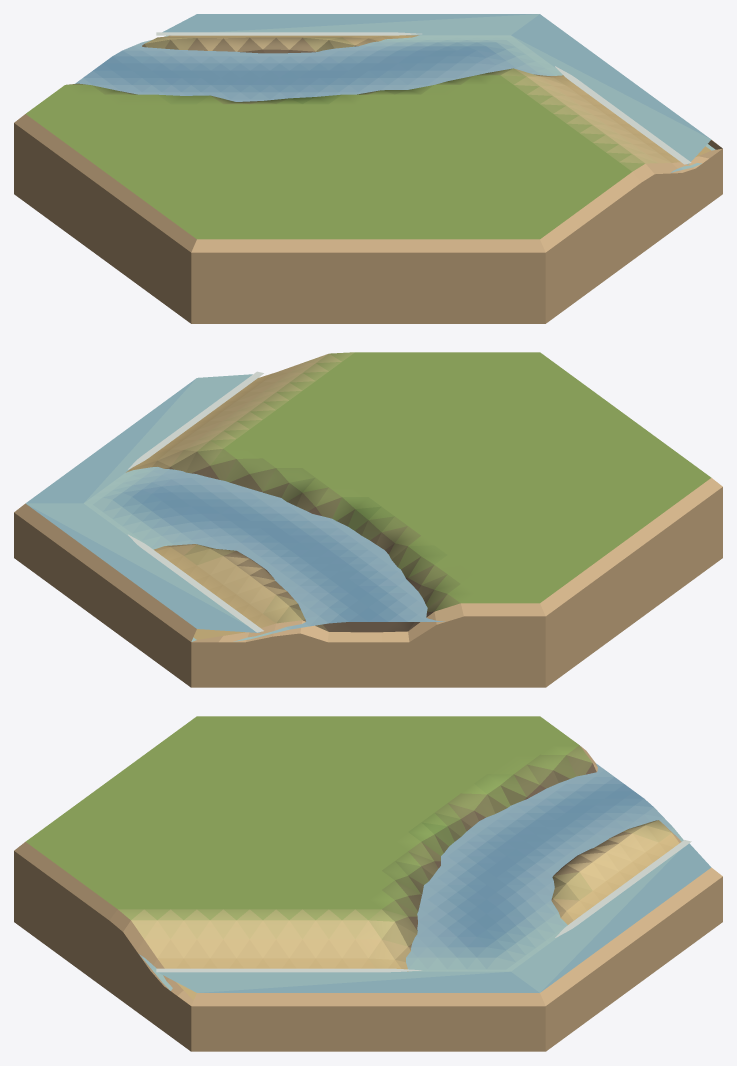
File: estuary_sea2_edge2.fbx
3 views of the same model, one above another, from view 1: azimuth 30°, elevation 25°; view 2: azimuth 150°, elevation 25°; view 3: azimuth 270°, elevation 25° (orthographic).
Parts seen in each view (by area): view 1: estuary_sea2_edge2; view 2: estuary_sea2_edge2; view 3: estuary_sea2_edge2.
Boxes of the visible parts, bbox=[...] form: estuary_sea2_edge2: bbox=[14, 14, 722, 323]; estuary_sea2_edge2: bbox=[14, 352, 722, 687]; estuary_sea2_edge2: bbox=[14, 716, 722, 1051].
Size of the model in its own units: 1.73 by 0.25 by 2.
